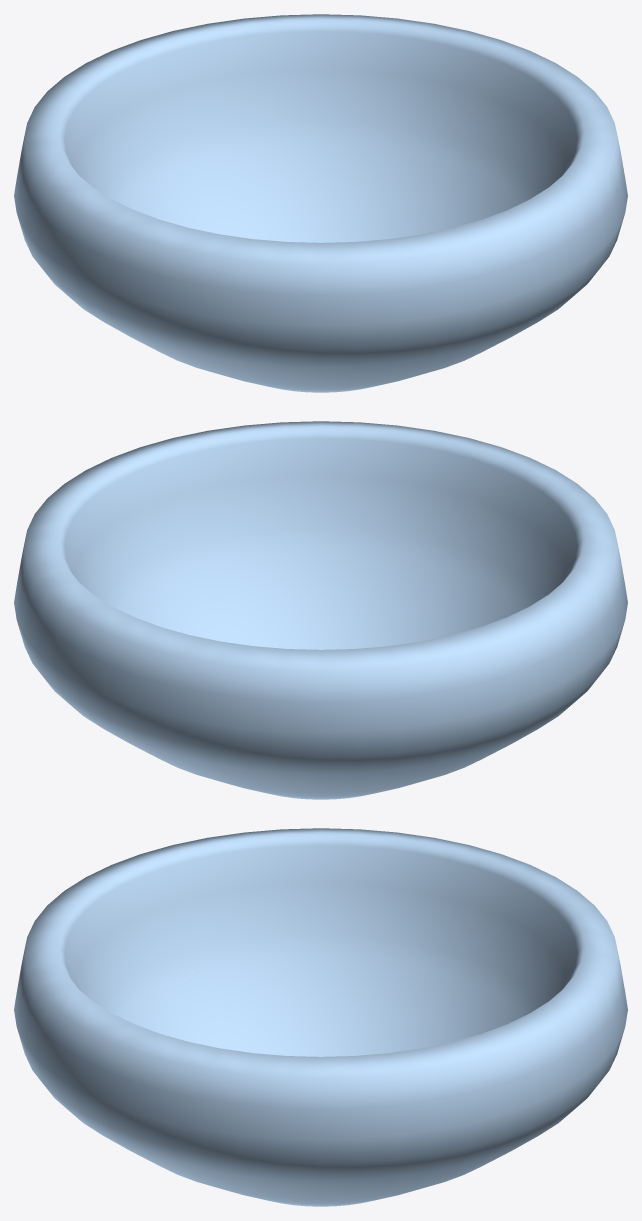
File: bowl.obj
3 views of the same model, one above another, from view 1: azimuth 30°, elevation 25°; view 2: azimuth 150°, elevation 25°; view 3: azimuth 270°, elevation 25° (orthographic).
Parts seen in each view (by area): view 1: Cylinder; view 2: Cylinder; view 3: Cylinder.
Boxes of the visible parts, x1=… form: Cylinder: x1=14, y1=14, x2=627, y2=392; Cylinder: x1=14, y1=421, x2=627, y2=799; Cylinder: x1=14, y1=828, x2=627, y2=1206.
Size of the model in its own units: 2.33 by 0.9103 by 2.33.
Materials: 1 (1 with a texture image).
